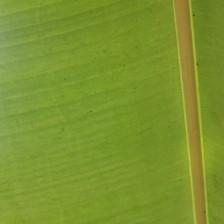healthy: (0, 1, 224, 224)
